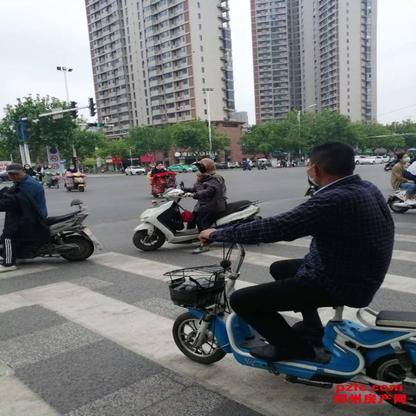target: (165, 143, 413, 382), (130, 154, 265, 255), (1, 162, 96, 265)
